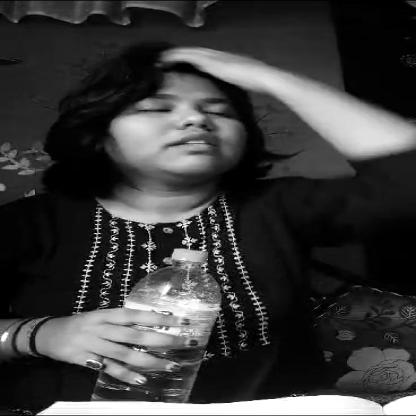Distracted: (81, 61, 260, 189)
